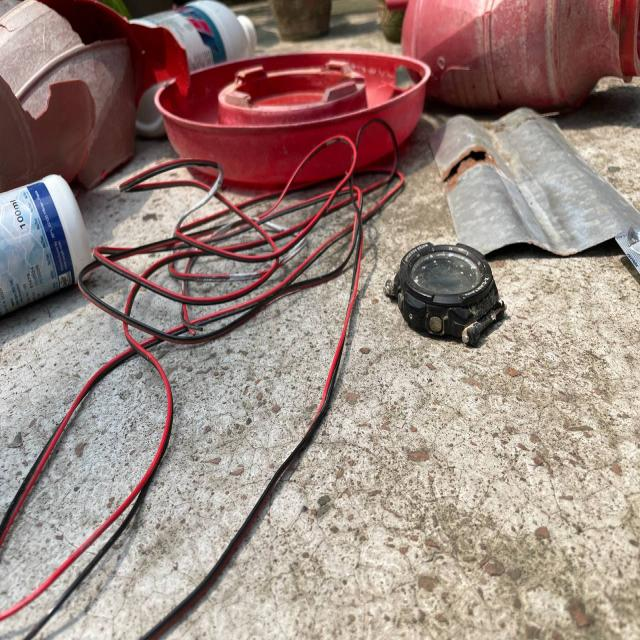Cable: (76, 156, 376, 633)
E-waste: (387, 217, 503, 380)
Metal: (444, 102, 640, 265)
Plastics: (0, 0, 640, 145), (0, 164, 80, 309)
